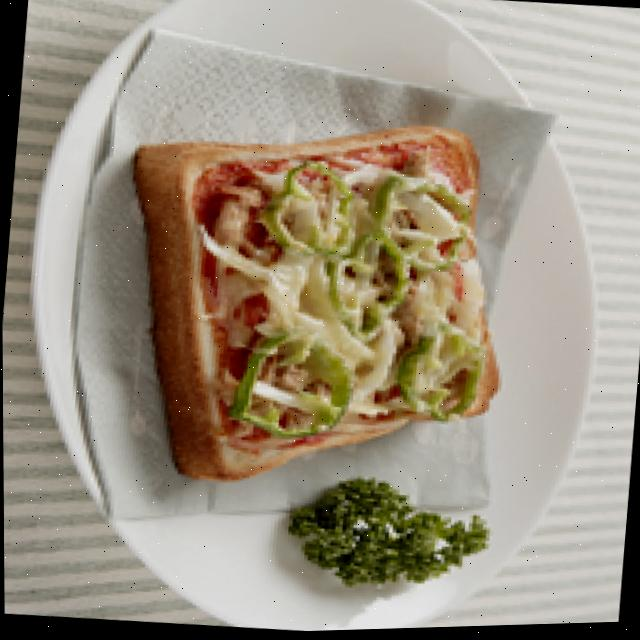面包点心: (44, 14, 580, 591)
